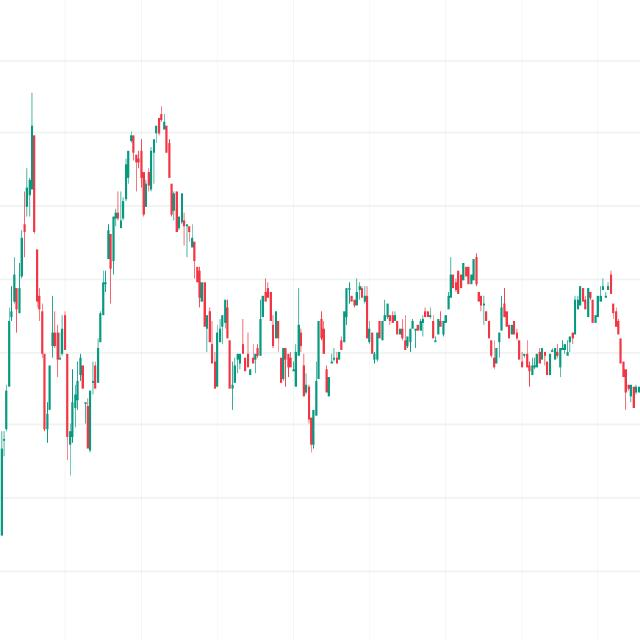Triple-Bottom: (35, 304, 105, 466)
